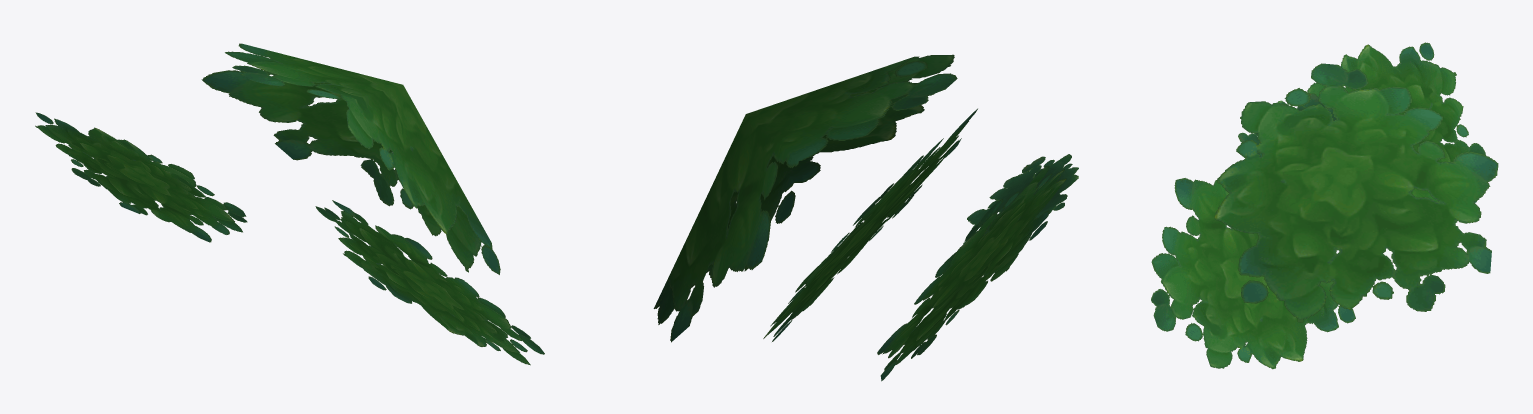
The model's file is ZJM_Sy01.FBX.
The picture shows the model from 3 angles, left to right: view 1: azimuth 30°, elevation 25°; view 2: azimuth 150°, elevation 25°; view 3: azimuth 270°, elevation 25°; orthographic projection. The views are drawn at different scales.
Visible parts, largest first — view 1: ZJM_shuye01; view 2: ZJM_shuye01; view 3: ZJM_shuye01.
Part boxes in pixels (left/top/right/bottom): ZJM_shuye01: left=35, top=43, right=544, bottom=365; ZJM_shuye01: left=653, top=54, right=1078, bottom=381; ZJM_shuye01: left=1151, top=42, right=1498, bottom=369.
Bounding box in the file's own units: 1060 × 1167 × 799.
